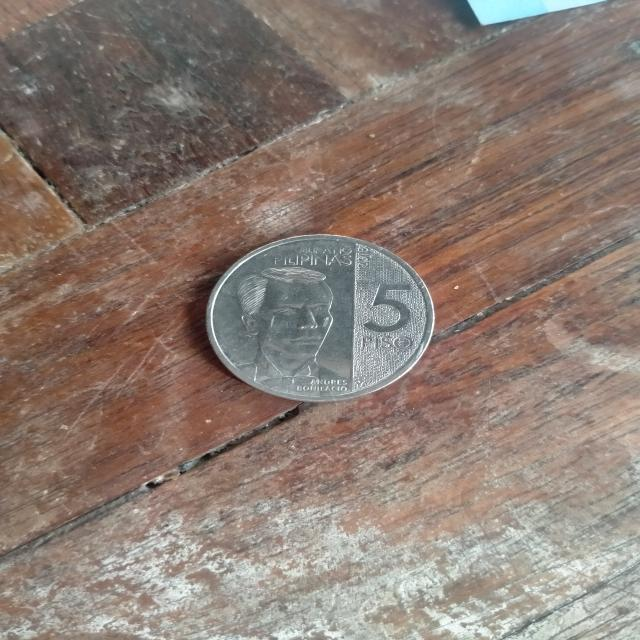5_New_Front: (234, 244, 420, 390)
